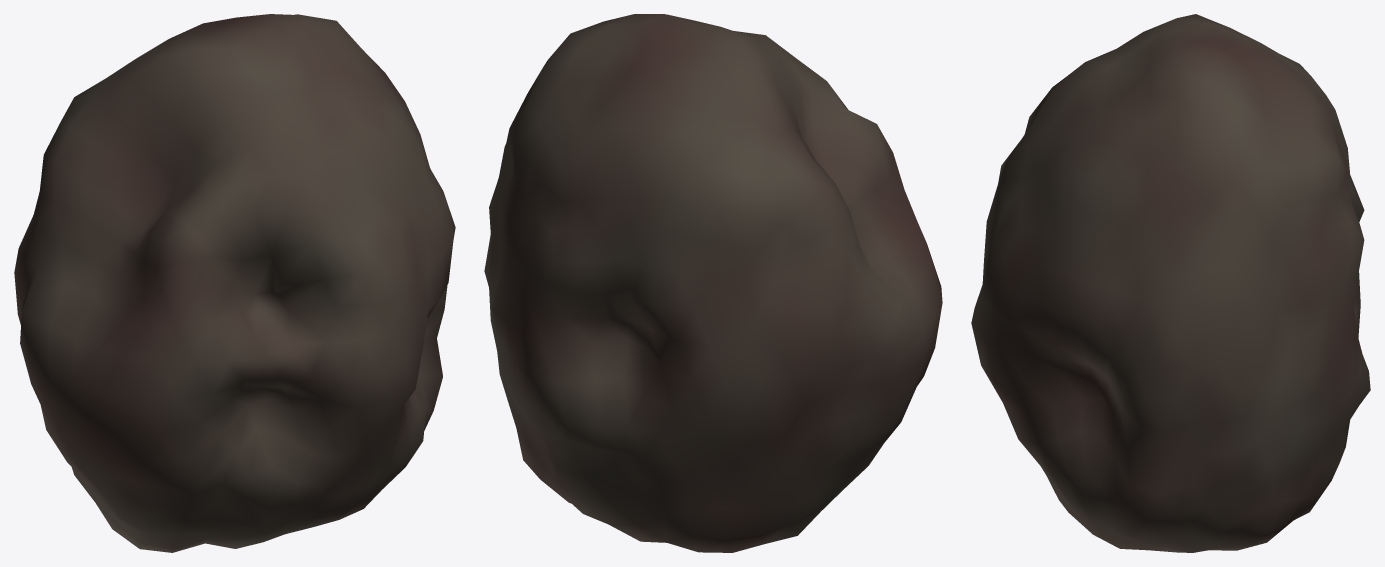
Rendered from asteroid_med_00.glb.
The picture shows the model from 3 angles, left to right: view 1: azimuth 30°, elevation 25°; view 2: azimuth 150°, elevation 25°; view 3: azimuth 270°, elevation 25°; orthographic projection.
Visible parts, largest first — view 1: asteroid_med_00; view 2: asteroid_med_00; view 3: asteroid_med_00.
Boxes of the visible parts, x1,y1,x2,y2 form: asteroid_med_00: (14,14,455,552); asteroid_med_00: (484,14,942,552); asteroid_med_00: (971,14,1370,552).
Bounding box in the file's own units: 1.95 × 2.25 × 1.66.
